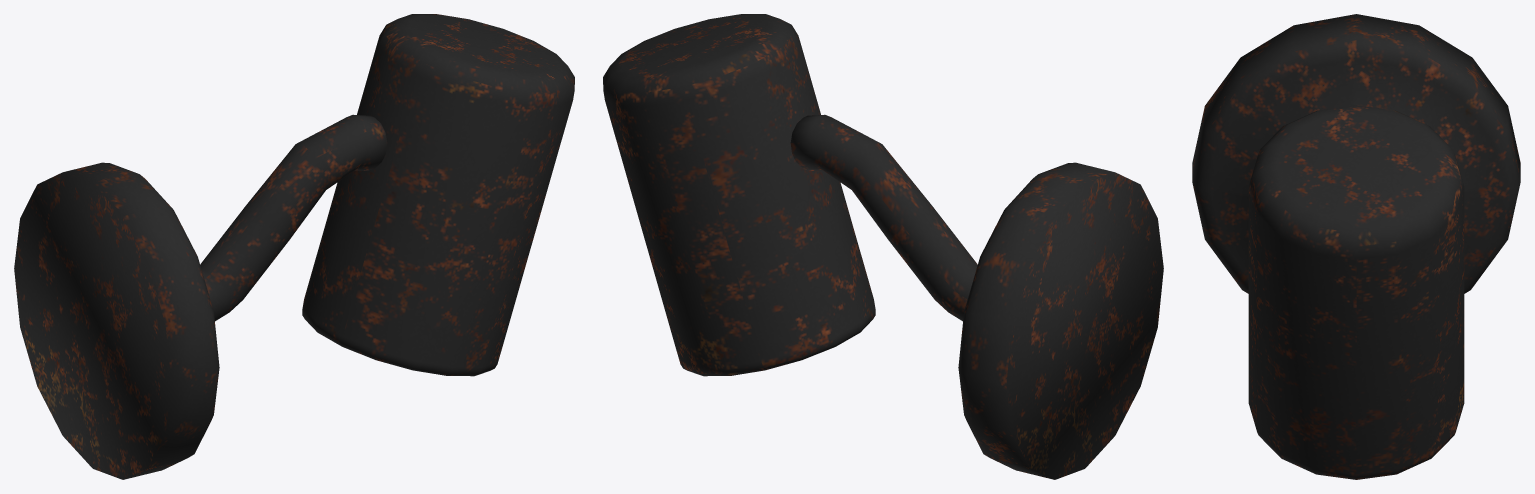
The model's file is WallLight.fbx.
3 views of the same model, side by side, from view 1: azimuth 30°, elevation 25°; view 2: azimuth 150°, elevation 25°; view 3: azimuth 270°, elevation 25° (orthographic). The views are drawn at different scales.
Visible parts, largest first — view 1: LightHead, LightBase; view 2: LightHead, LightBase; view 3: LightHead, LightBase.
Part boxes in pixels (bbox=[...]): LightHead: bbox=[302, 14, 574, 376]; LightBase: bbox=[14, 114, 387, 479]; LightHead: bbox=[603, 14, 875, 376]; LightBase: bbox=[790, 114, 1163, 479]; LightHead: bbox=[1248, 105, 1464, 479]; LightBase: bbox=[1192, 14, 1520, 293].
Bounding box in the file's own units: 1721 × 1233 × 1000.
1 material, 1 textured.
